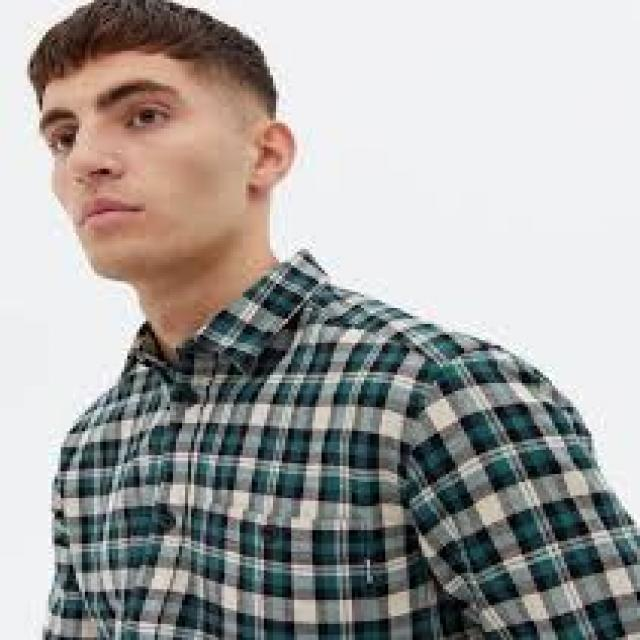plaid: (2, 270, 640, 639)
